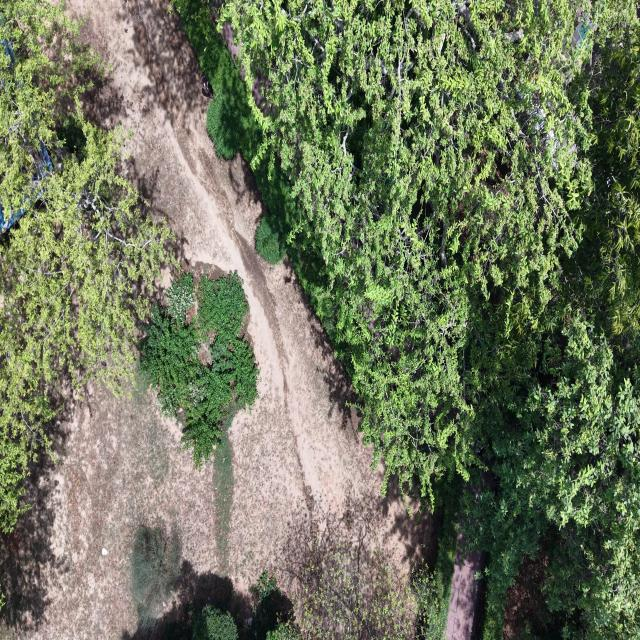DRY_AREA: (0, 0, 434, 639), (503, 555, 561, 639), (446, 521, 486, 639), (446, 533, 485, 639)
VEGETATION_TREE: (175, 0, 639, 639), (221, 0, 590, 495), (471, 12, 639, 637), (0, 0, 169, 532), (0, 0, 168, 530), (468, 318, 639, 638), (132, 516, 448, 639), (242, 508, 448, 639), (283, 500, 449, 639), (141, 272, 257, 467), (579, 16, 639, 335), (173, 0, 260, 158), (138, 562, 301, 639), (298, 544, 419, 639), (412, 476, 463, 639), (201, 35, 251, 159), (131, 523, 181, 632), (502, 554, 562, 639), (245, 571, 297, 639), (213, 414, 233, 565), (207, 100, 238, 159), (193, 606, 238, 639), (255, 218, 285, 263), (267, 623, 300, 639)
